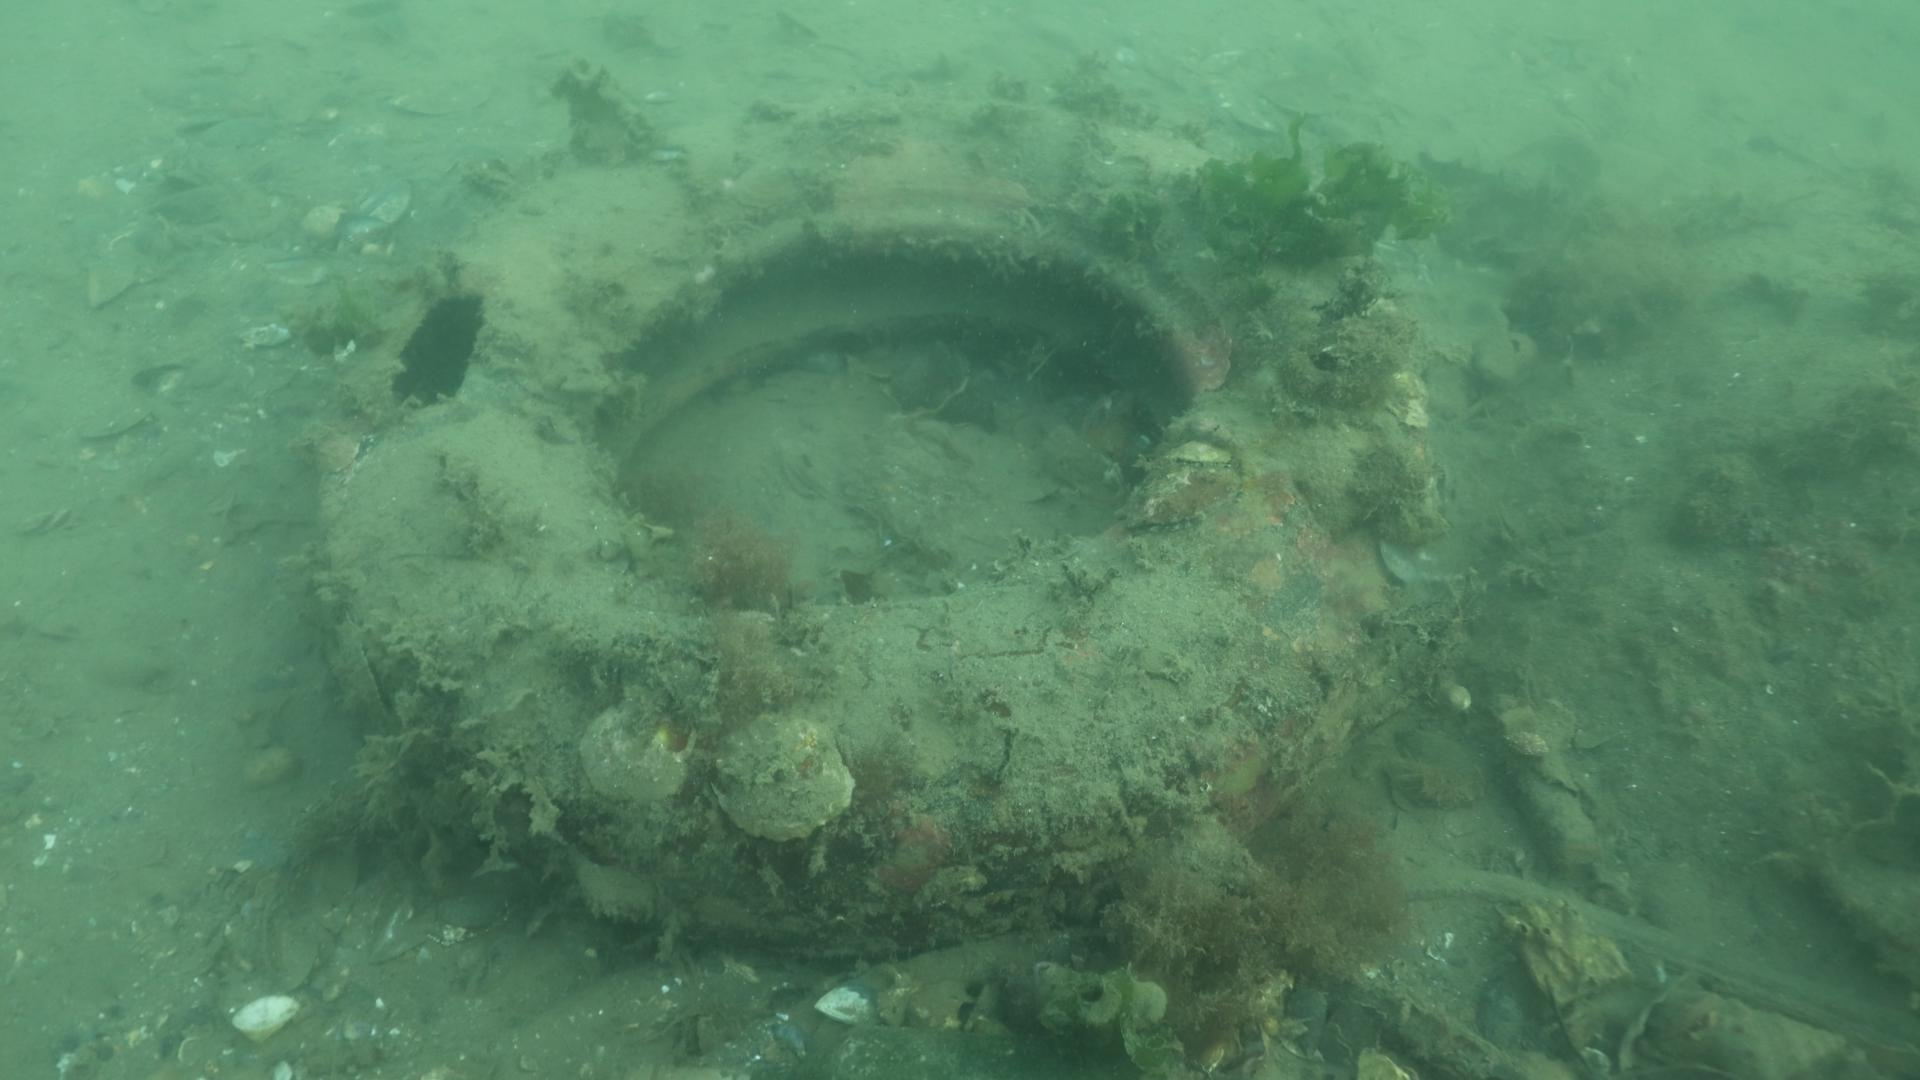tire: (315, 96, 1429, 963)
